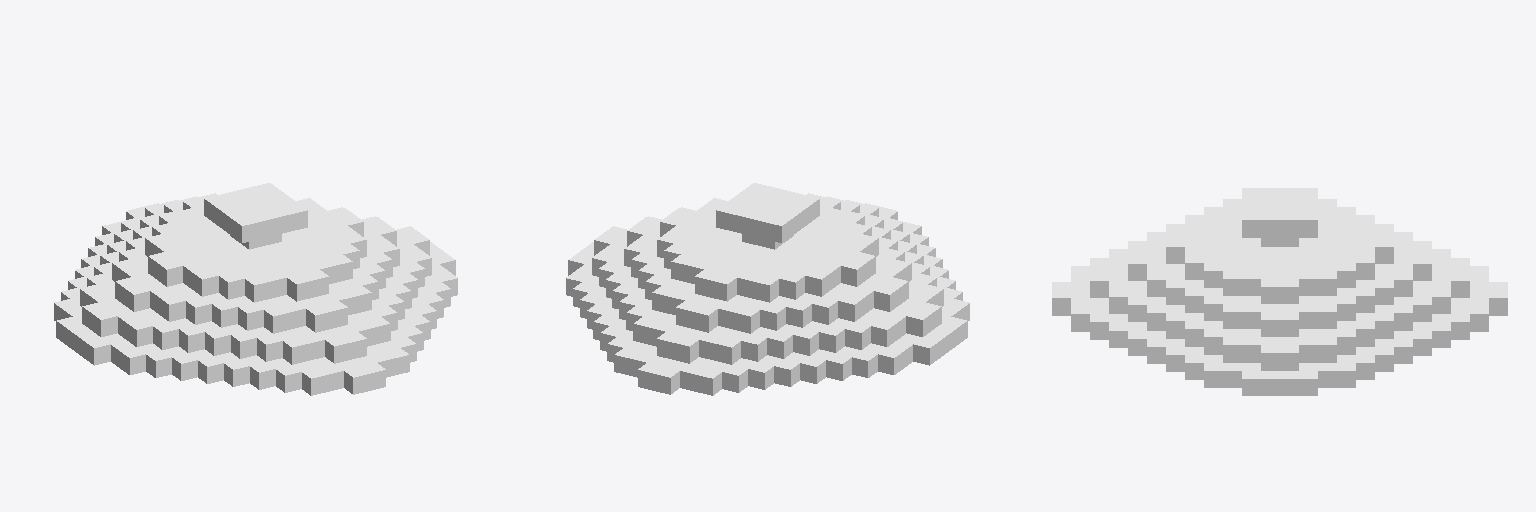
File: PotLib01.obj
3 views of the same model, side by side, from view 1: azimuth 30°, elevation 25°; view 2: azimuth 150°, elevation 25°; view 3: azimuth 270°, elevation 25° (orthographic).
Visible parts, largest first — view 1: object 1; view 2: object 1; view 3: object 1.
Boxes of the visible parts, <box> form: object 1: <box>54,183,457,395</box>; object 1: <box>566,183,969,395</box>; object 1: <box>1052,188,1507,395</box>.
Bounding box in the file's own units: 2.2 × 0.6 × 2.4.